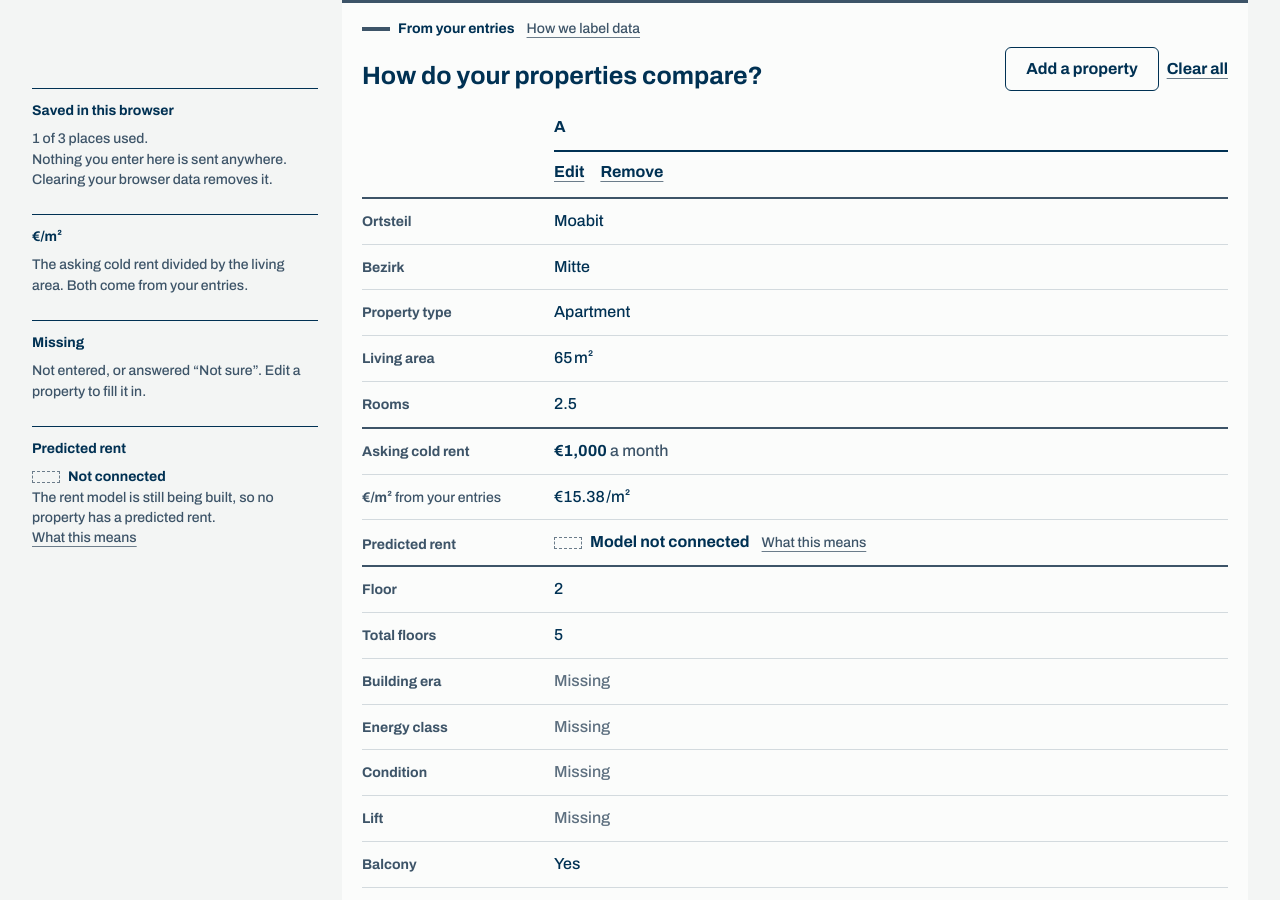
Scenario: CompareView › keeps the entries of an edited property that another tab removed
The image size is (1280, 900).
Click the button with aria-label "Edit A" at coordinates (569, 172), box [554,160,584,185]
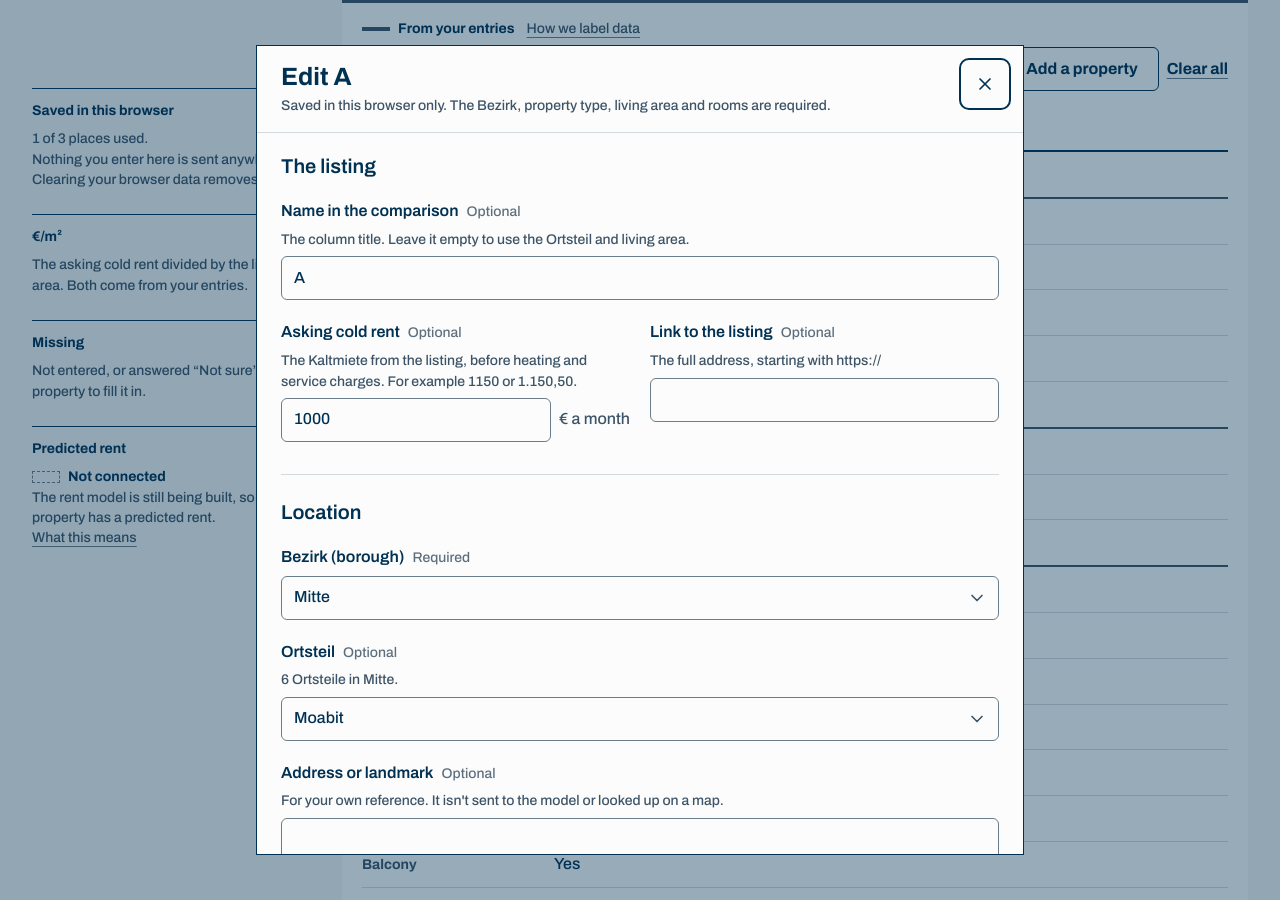
Expected: the dialog is shown, [256,45,1024,855]
Replace the text in the field labelled "Asking cold rent Optional" with "1100" at coordinates (416, 420), box [281,398,551,442]
(page scrolled)
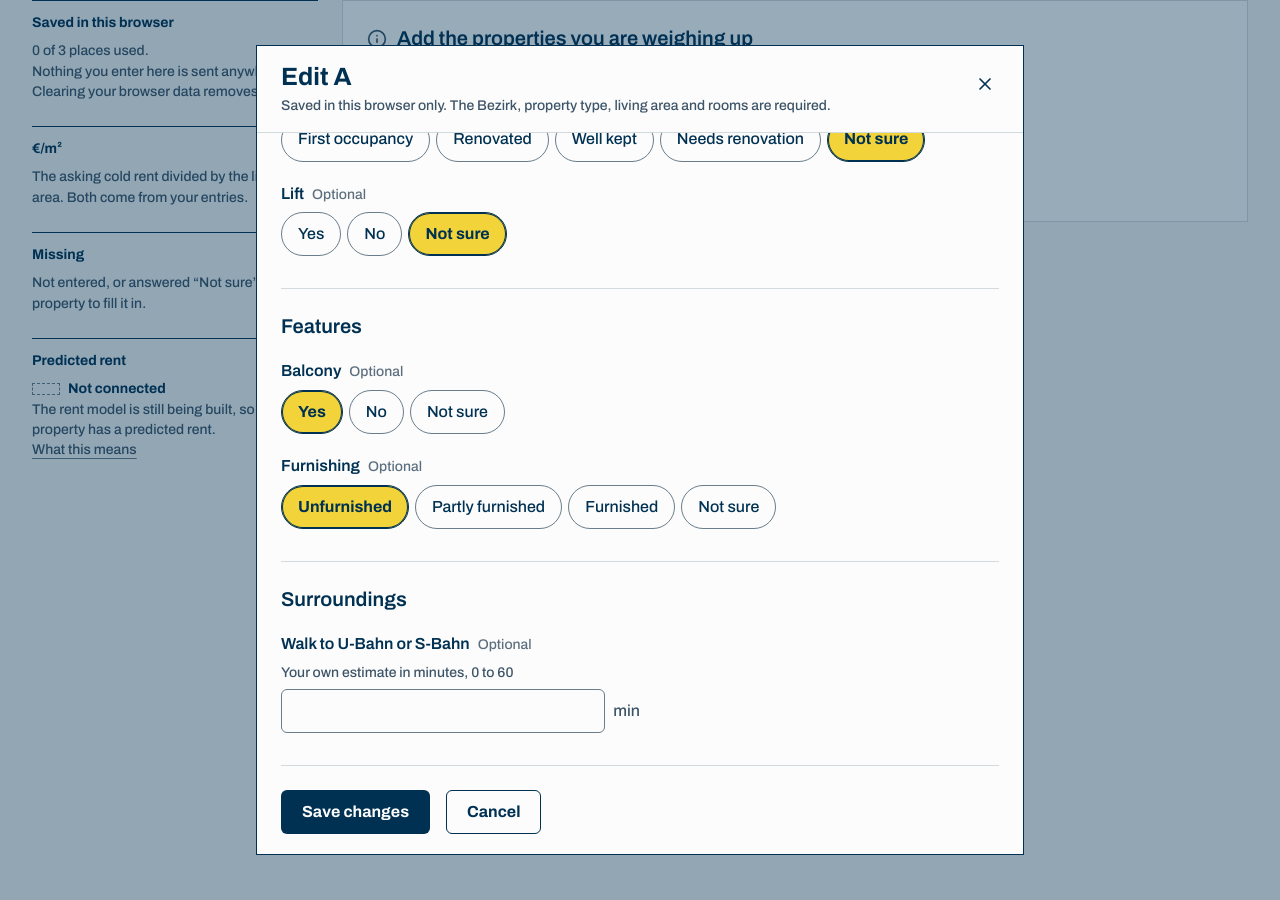
Click the button "Save changes" at coordinates (356, 812), box [281,790,430,834]
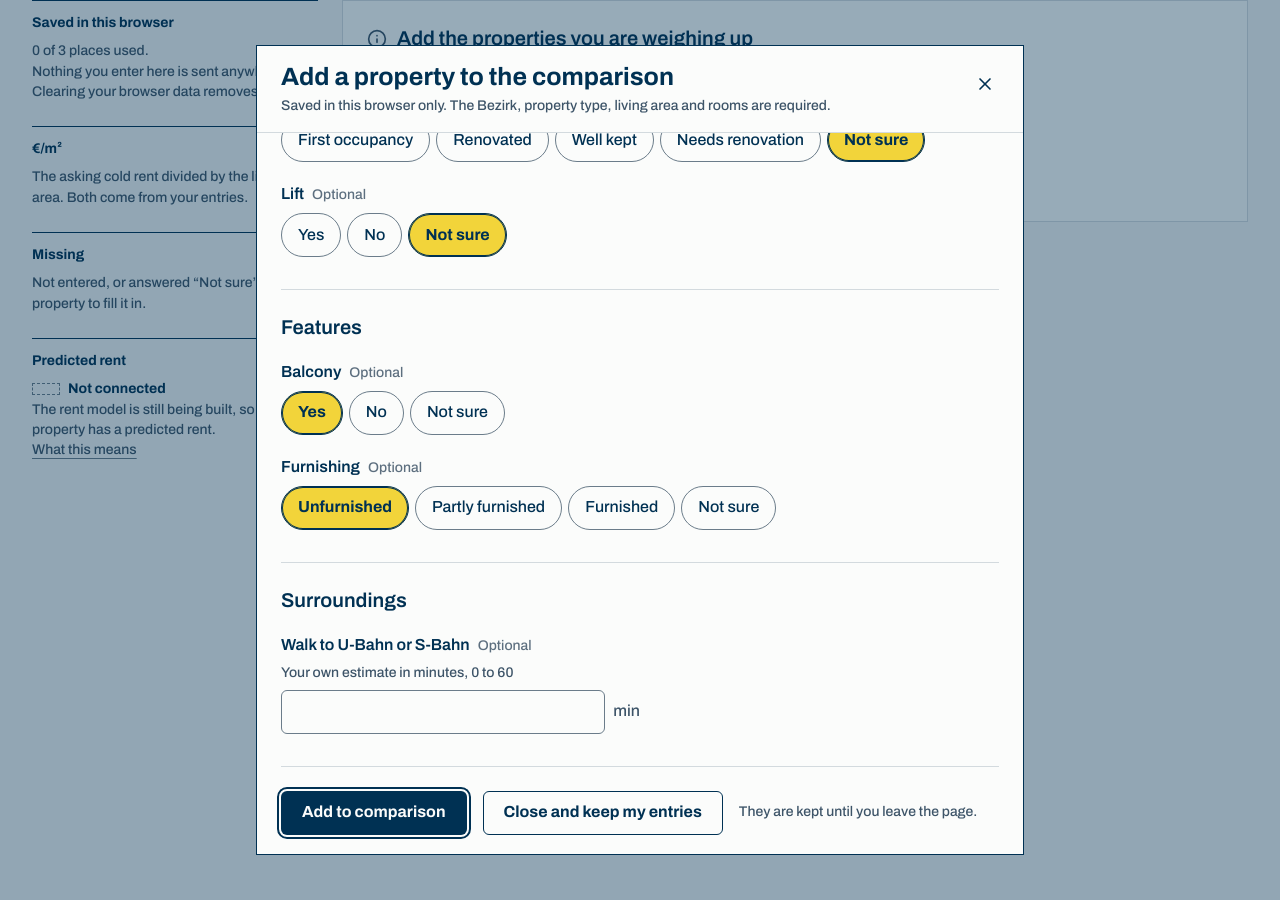
Click the button "Add to comparison" at coordinates (374, 813), box [281,791,466,835]
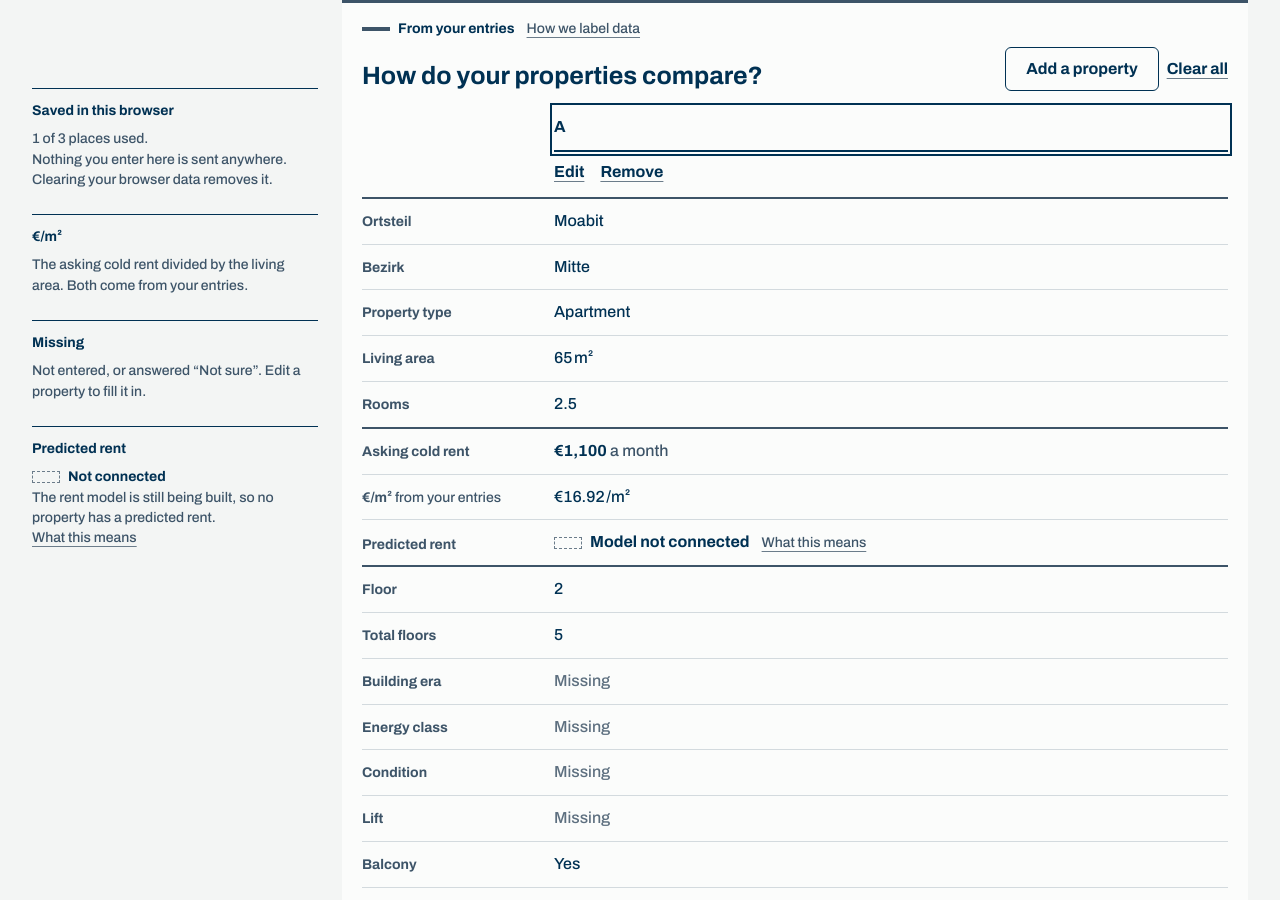
Expected: the dialog is gone
